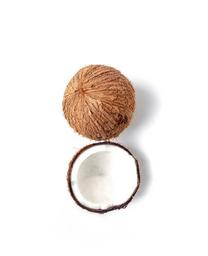coconut: (61, 65, 135, 141), (67, 142, 140, 213)
